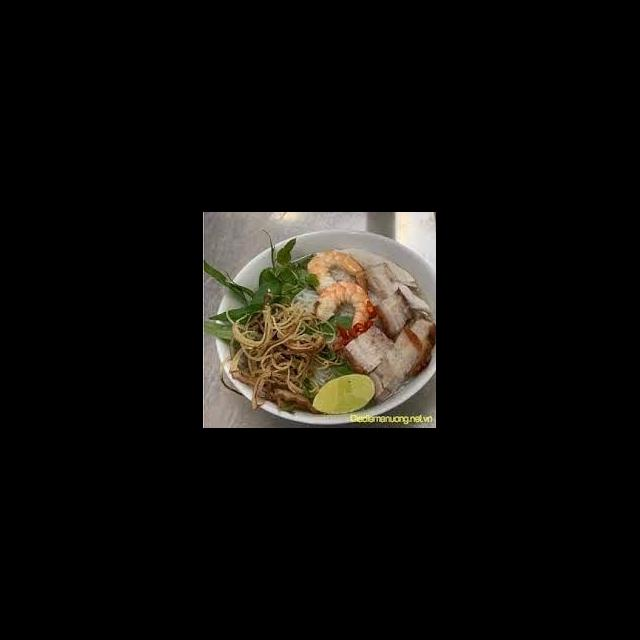bun: (290, 284, 322, 315)
thit heo quay: (368, 326, 423, 406), (339, 321, 398, 376), (372, 292, 414, 344)
tom: (312, 278, 373, 340), (304, 248, 372, 303)
